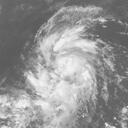cyclone: (25, 26, 99, 100)
